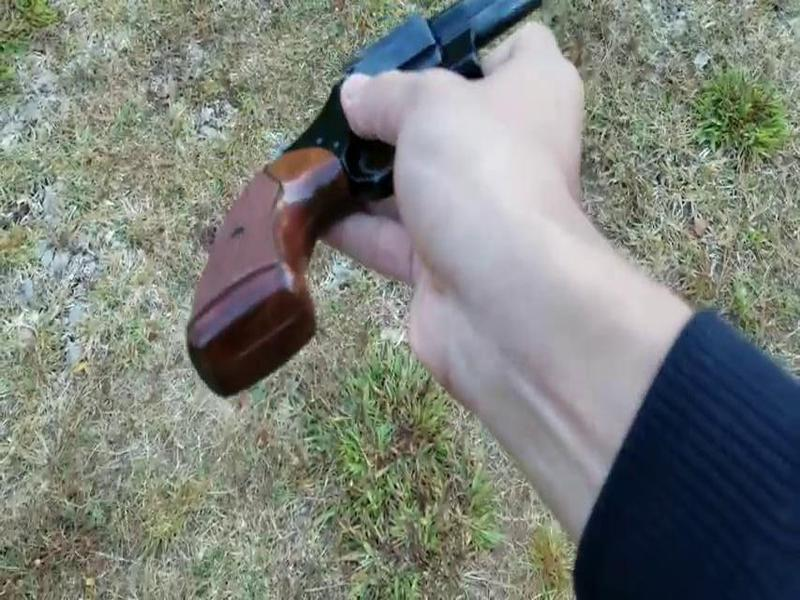Revolver: (169, 1, 599, 390)
